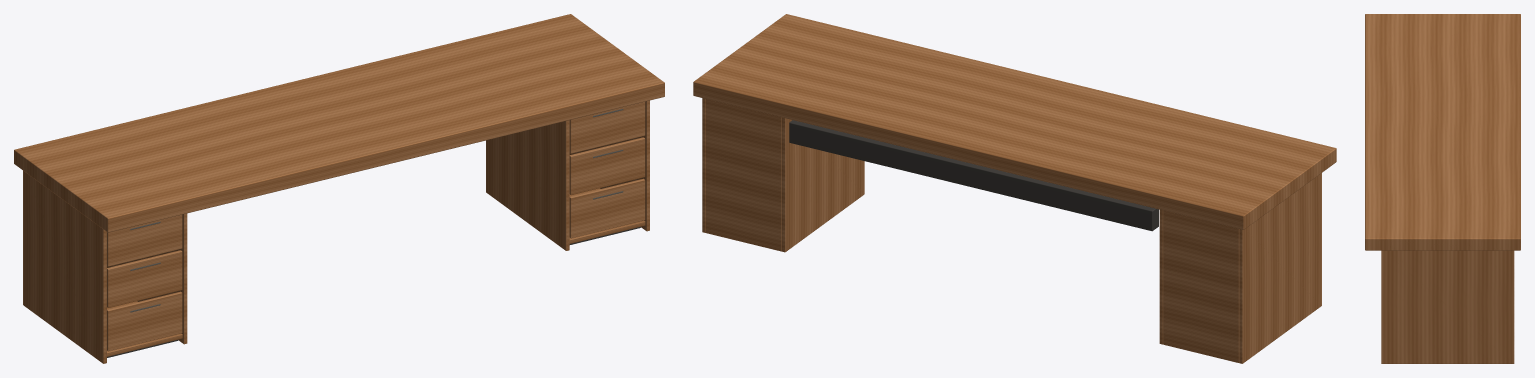
Rendered from desk_v06a.glb.
3 renders of one model, left to right at view 1: azimuth 30°, elevation 25°; view 2: azimuth 150°, elevation 25°; view 3: azimuth 270°, elevation 25°, orthographic. The views are drawn at different scales.
Parts seen in each view (by area): view 1: VIS_DeskSolid_0_WoodTop, VIS_DeskSolid_1_WoodCarcassAndDrawers, VIS_DeskSolid_2_WoodCarcassAndDrawers; view 2: VIS_DeskSolid_0_WoodTop, VIS_DeskSolid_1_WoodCarcassAndDrawers, VIS_DeskSolid_2_WoodCarcassAndDrawers, VIS_DeskSolid_3_RearBrace.001; view 3: VIS_DeskSolid_0_WoodTop, VIS_DeskSolid_2_WoodCarcassAndDrawers.
Part boxes in pixels (x1=…): VIS_DeskSolid_0_WoodTop: x1=14, y1=14, x2=664, y2=232; VIS_DeskSolid_1_WoodCarcassAndDrawers: x1=23, y1=170, x2=187, y2=363; VIS_DeskSolid_2_WoodCarcassAndDrawers: x1=486, y1=100, x2=649, y2=250; VIS_DeskSolid_0_WoodTop: x1=693, y1=14, x2=1336, y2=229; VIS_DeskSolid_1_WoodCarcassAndDrawers: x1=1159, y1=173, x2=1321, y2=363; VIS_DeskSolid_2_WoodCarcassAndDrawers: x1=702, y1=98, x2=864, y2=252; VIS_DeskSolid_3_RearBrace.001: x1=789, y1=120, x2=1158, y2=231; VIS_DeskSolid_0_WoodTop: x1=1365, y1=14, x2=1520, y2=250; VIS_DeskSolid_2_WoodCarcassAndDrawers: x1=1381, y1=250, x2=1514, y2=363.
Bounding box in the file's own units: 2.8 × 0.74 × 0.82.
Materials: 3 (1 with a texture image).
